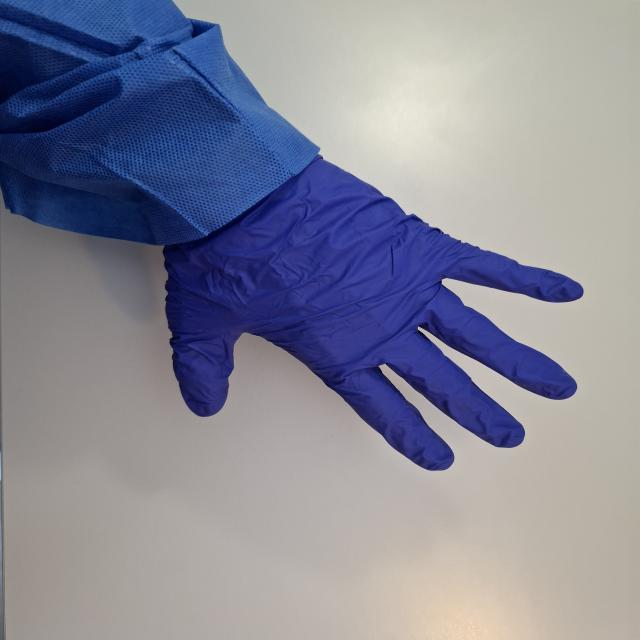glove_on: (154, 151, 589, 473)
